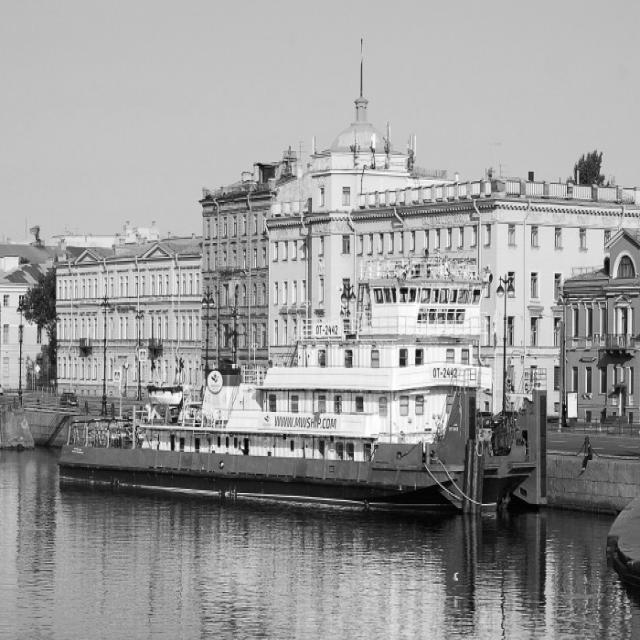tugboat: (57, 251, 552, 532)
